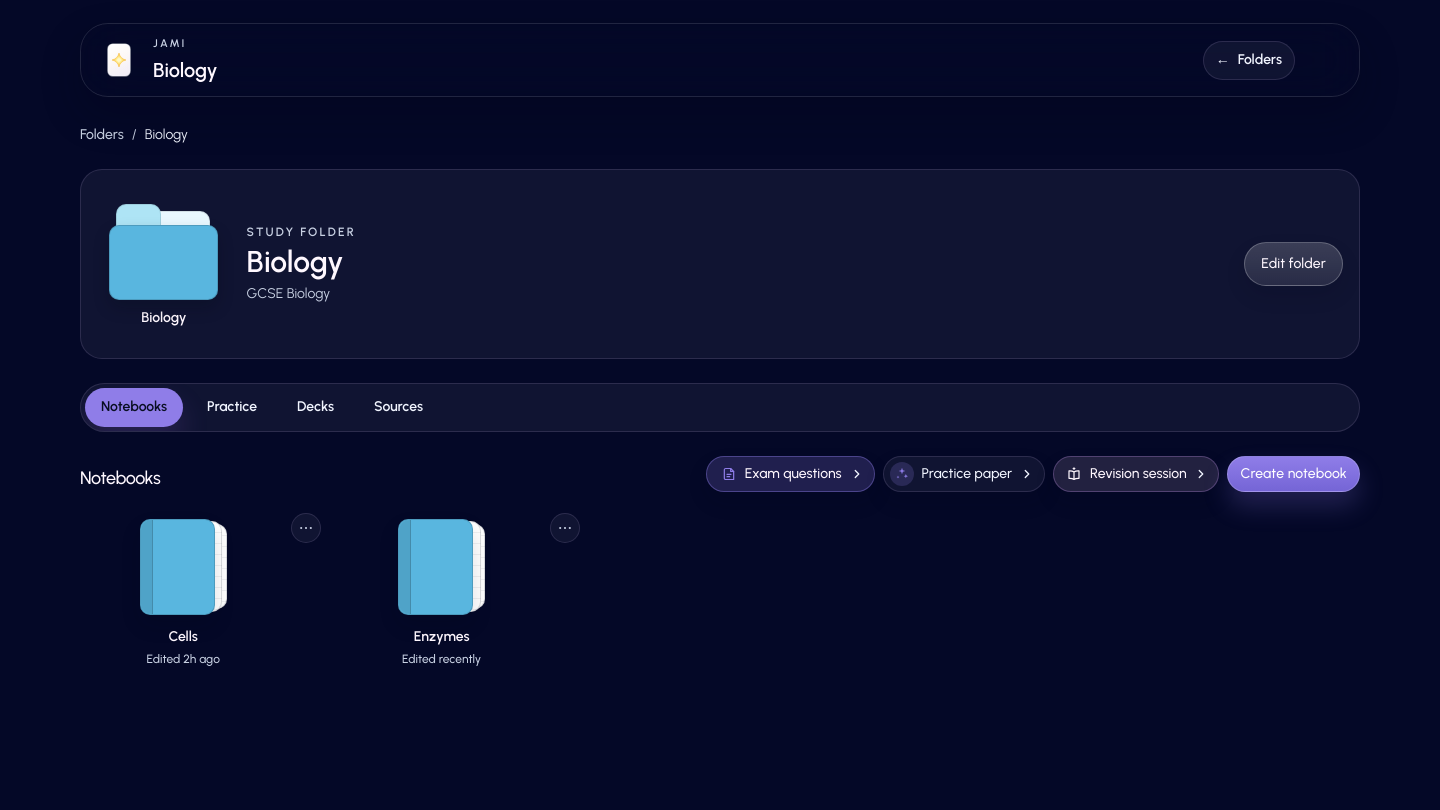
Test case: a study folder › says when a tab's list could not load
What coordinates should you click on to do the following:
click the button "Decks"
I would click on:
 (316, 407)
Its box is [281,388,350,427].
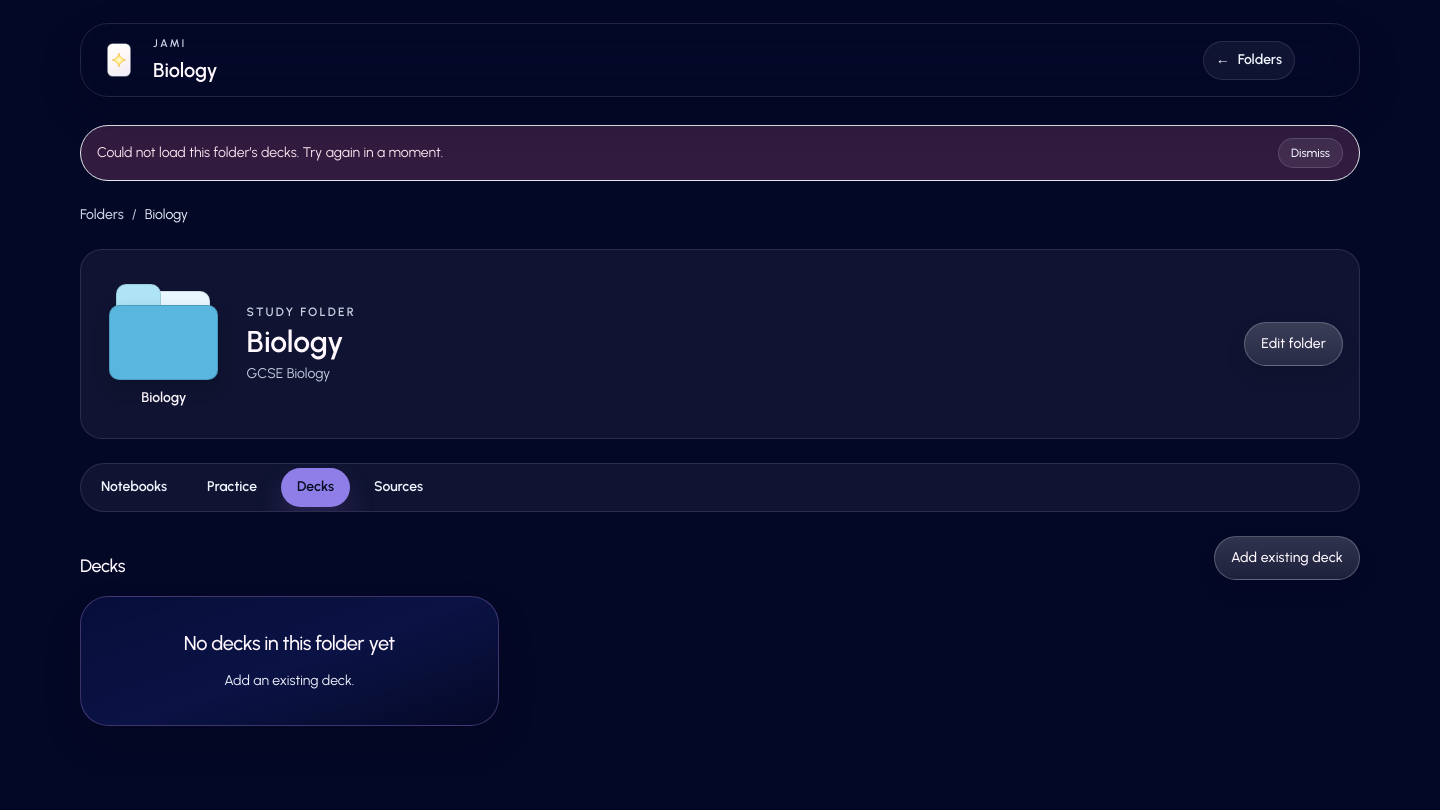
Expected: the text "Could not load this folder’s decks." is shown, [97,144,443,161]
